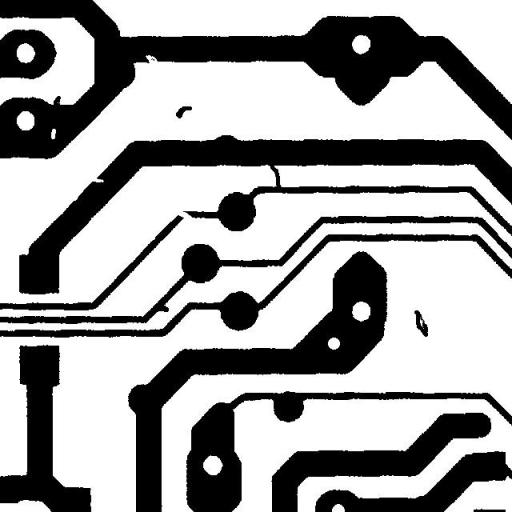copper: (406, 302, 436, 344), (168, 98, 199, 126)
mousebite: (138, 47, 166, 71), (83, 170, 111, 190)
open: (169, 202, 201, 230)
pin-hole: (320, 330, 347, 356), (43, 121, 63, 146)
short: (262, 155, 288, 196)
spur: (46, 88, 68, 116), (150, 297, 176, 319)
